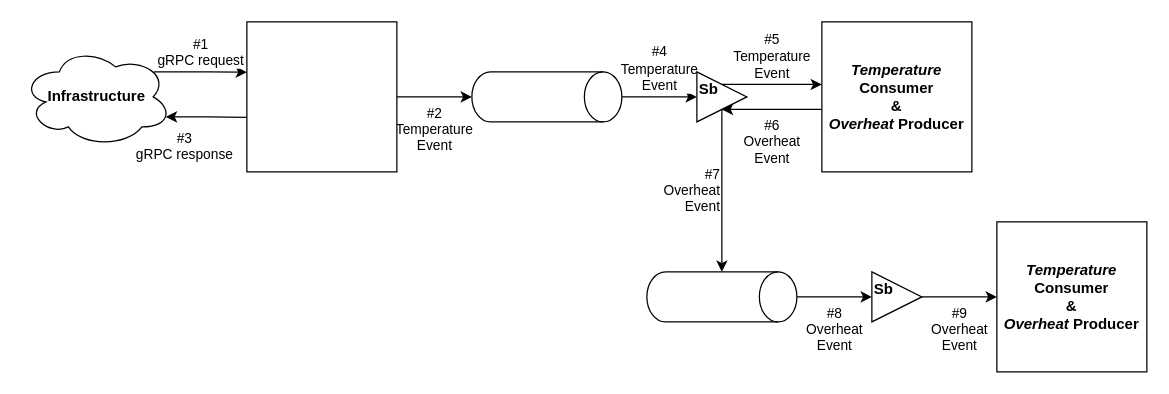
Some shapes in this 1169 by 394 pixel diagram are drawn without their labels. The centre of each missing label's shape, as x and y in pixels:
"Ingress Server & Temperature Source" belongs at pixel 321 96.
"Overheat Channel" belongs at pixel 721 296.
"Temperature Channel" belongs at pixel 546 96.
